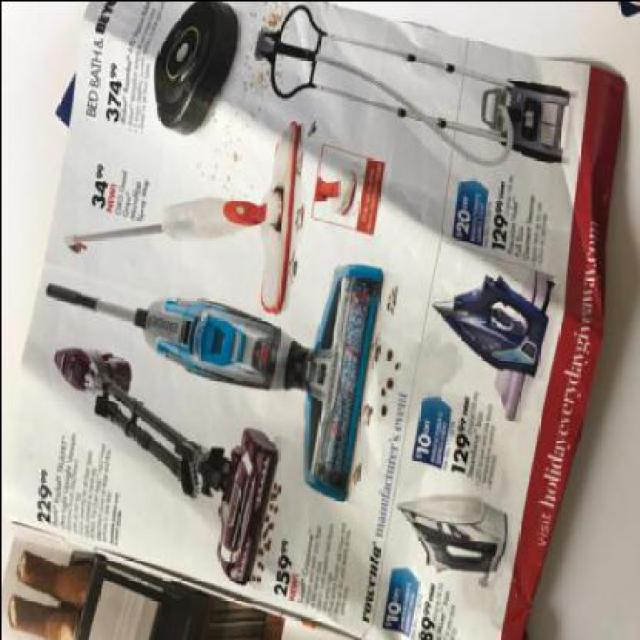PAPER: (3, 1, 625, 638)
